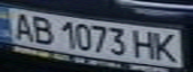0: (72, 20, 93, 52)
1: (54, 18, 75, 50)
3: (109, 25, 130, 57)
7: (90, 22, 109, 54)
A: (6, 10, 39, 42)
B: (27, 14, 57, 45)
H: (130, 28, 160, 61)
K: (151, 30, 181, 63)
